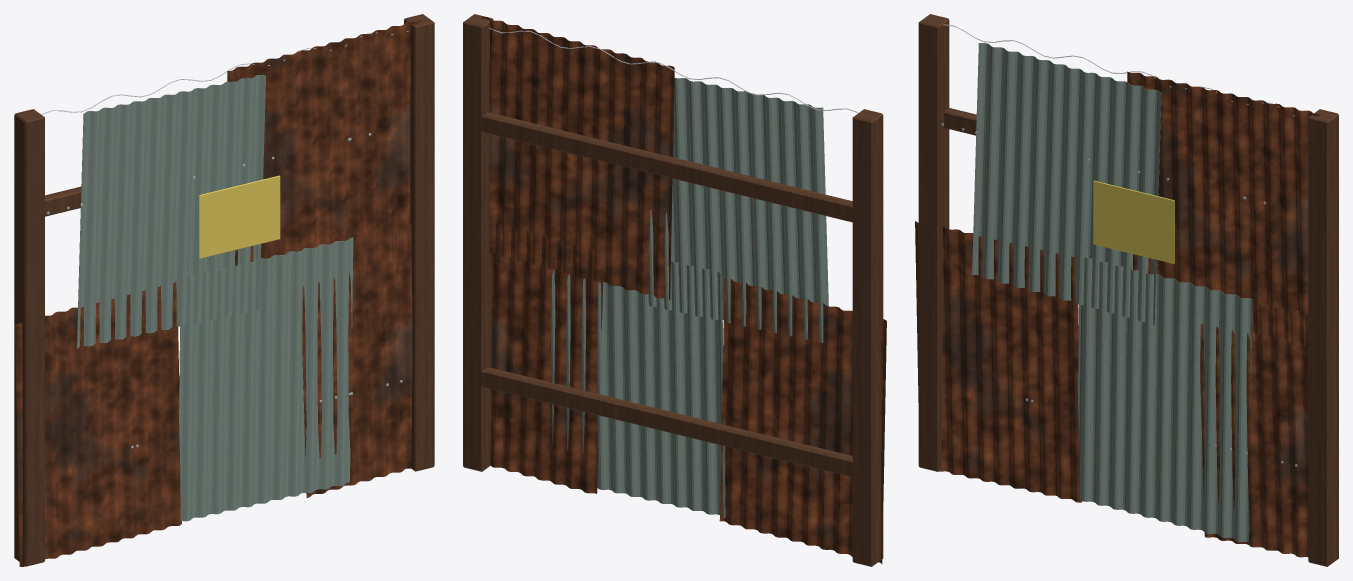
The model's file is muro_sucata.glb.
3 renders of one model, left to right at view 1: azimuth 30°, elevation 25°; view 2: azimuth 150°, elevation 25°; view 3: azimuth 330°, elevation 25°, orthographic.
Visible parts, largest first — view 1: muro_sucata_ferrugem, muro_sucata_chapa_pintada, muro_sucata_madeira_escura, muro_sucata_tinta_amarela, muro_sucata_aco; view 2: muro_sucata_ferrugem, muro_sucata_chapa_pintada, muro_sucata_madeira_escura, muro_sucata_aco; view 3: muro_sucata_ferrugem, muro_sucata_chapa_pintada, muro_sucata_madeira_escura, muro_sucata_tinta_amarela, muro_sucata_aco.
Boxes of the visible parts, box(x1,y1,x2,y2) form: muro_sucata_ferrugem: box(15, 20, 419, 566); muro_sucata_chapa_pintada: box(76, 75, 353, 521); muro_sucata_madeira_escura: box(14, 14, 434, 566); muro_sucata_tinta_amarela: box(199, 175, 280, 258); muro_sucata_aco: box(41, 31, 408, 448); muro_sucata_ferrugem: box(481, 16, 886, 563); muro_sucata_chapa_pintada: box(551, 78, 828, 517); muro_sucata_madeira_escura: box(463, 14, 883, 566); muro_sucata_aco: box(489, 28, 858, 113); muro_sucata_ferrugem: box(915, 71, 1320, 557); muro_sucata_chapa_pintada: box(972, 43, 1252, 542); muro_sucata_madeira_escura: box(918, 14, 1338, 566); muro_sucata_tinta_amarela: box(1093, 180, 1174, 263); muro_sucata_aco: box(941, 24, 1297, 466).
Size of the model in its own units: 2.05 by 2.12 by 0.1.
Materials: 5 (2 with a texture image).
